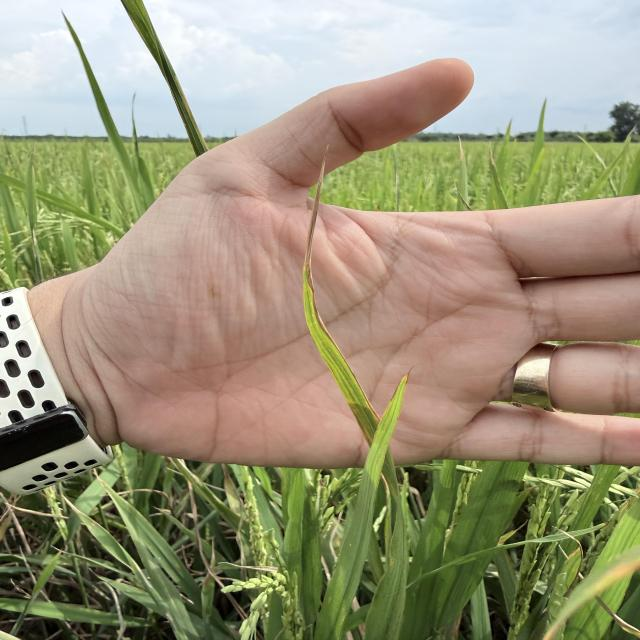Chay bia la: (302, 142, 381, 422)
